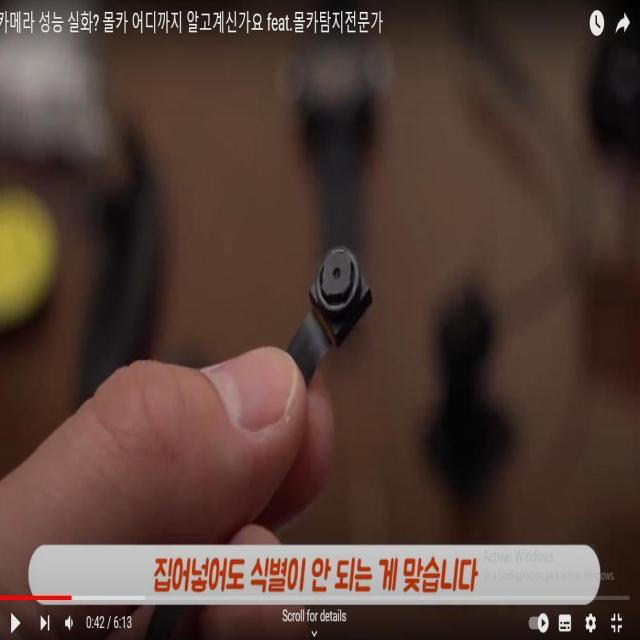hidden camera: (318, 246, 355, 311)
